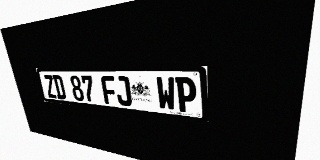7: (80, 75, 96, 103)
8: (69, 75, 85, 101)
D: (52, 75, 67, 100)
F: (100, 76, 118, 105)
J: (114, 76, 132, 107)
P: (175, 77, 197, 113)
W: (156, 77, 176, 111)
Z: (43, 75, 57, 98)
